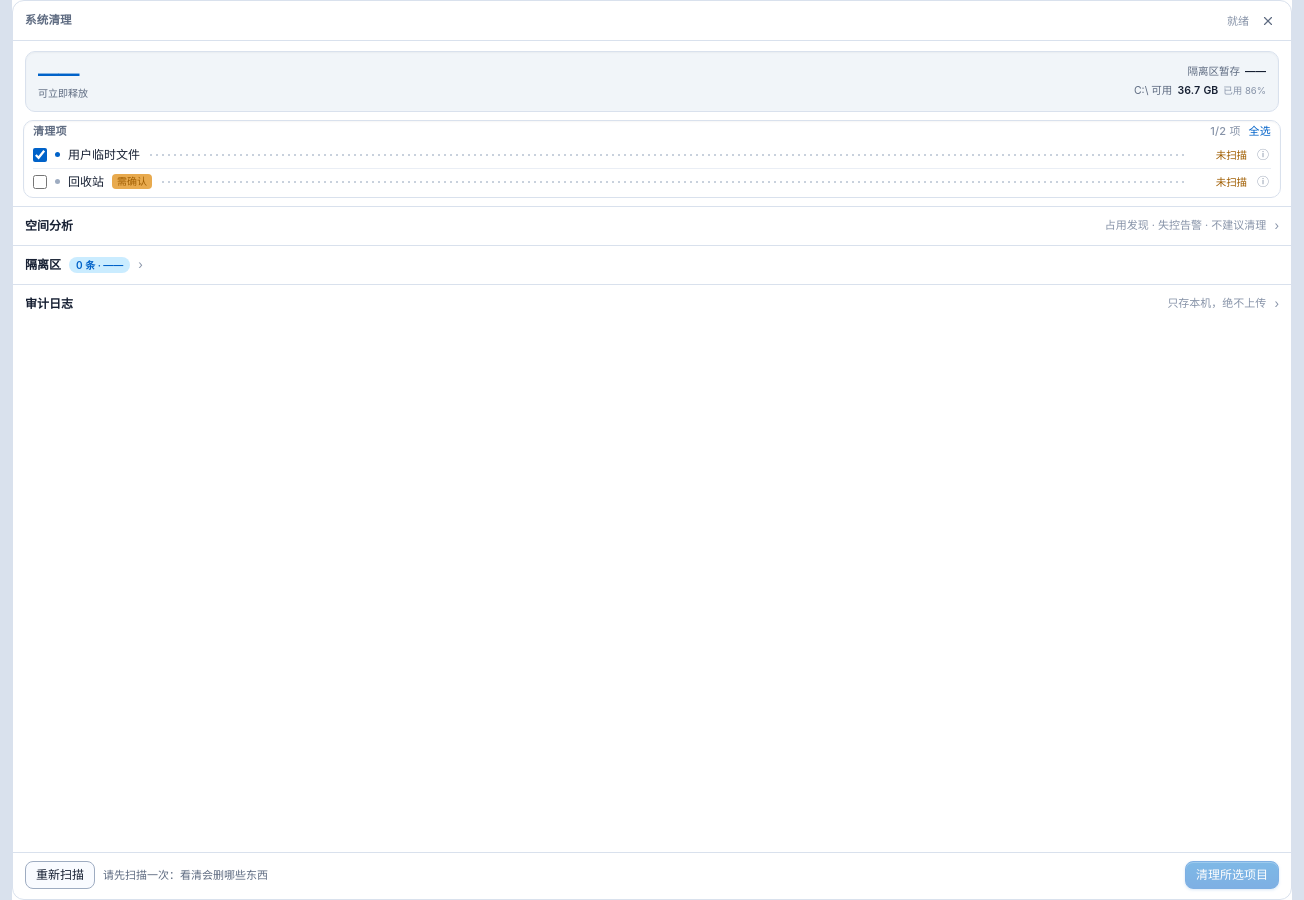
SystemCleanerTool › 审计日志：展开时才去拉，且能按规则/路径筛选
This screenshot has width=1304, height=900.
Click the button "审计日志 只存本机，绝不上传 ›".
click(49, 303)  # box [13,284,1291,323]
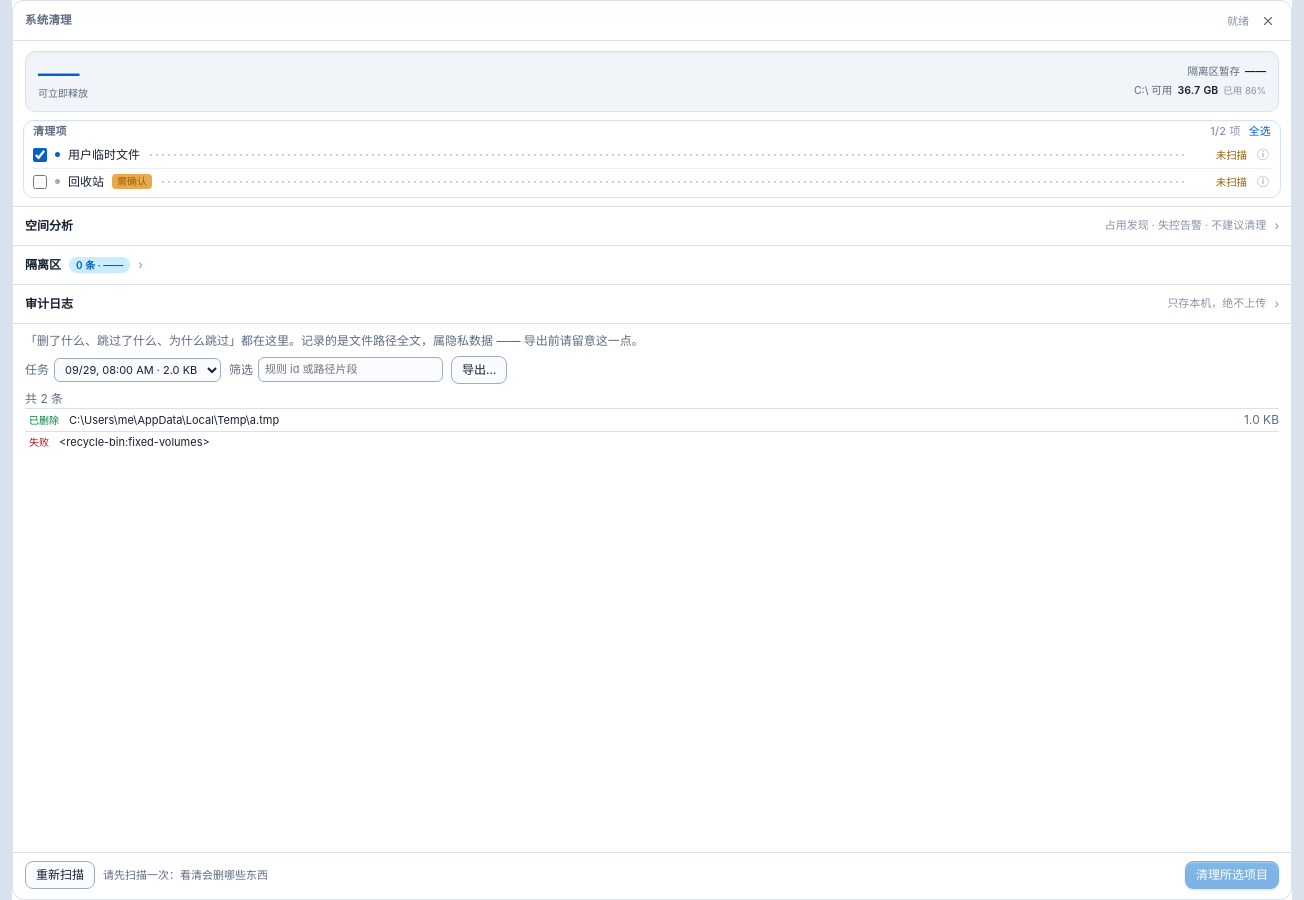
Check: the text "已删除" is shown, box [29,414,59,426]
Check: the text "失败" is shown, box [29,436,49,448]
Check: the text "共 2 条" is shown, box [25,391,63,406]
# 筛选：按路径片段
Type "recycle" into the field with placeholder "规则 id 或路径片段".
click(350, 370); type("recycle")  # box [258,357,443,382]
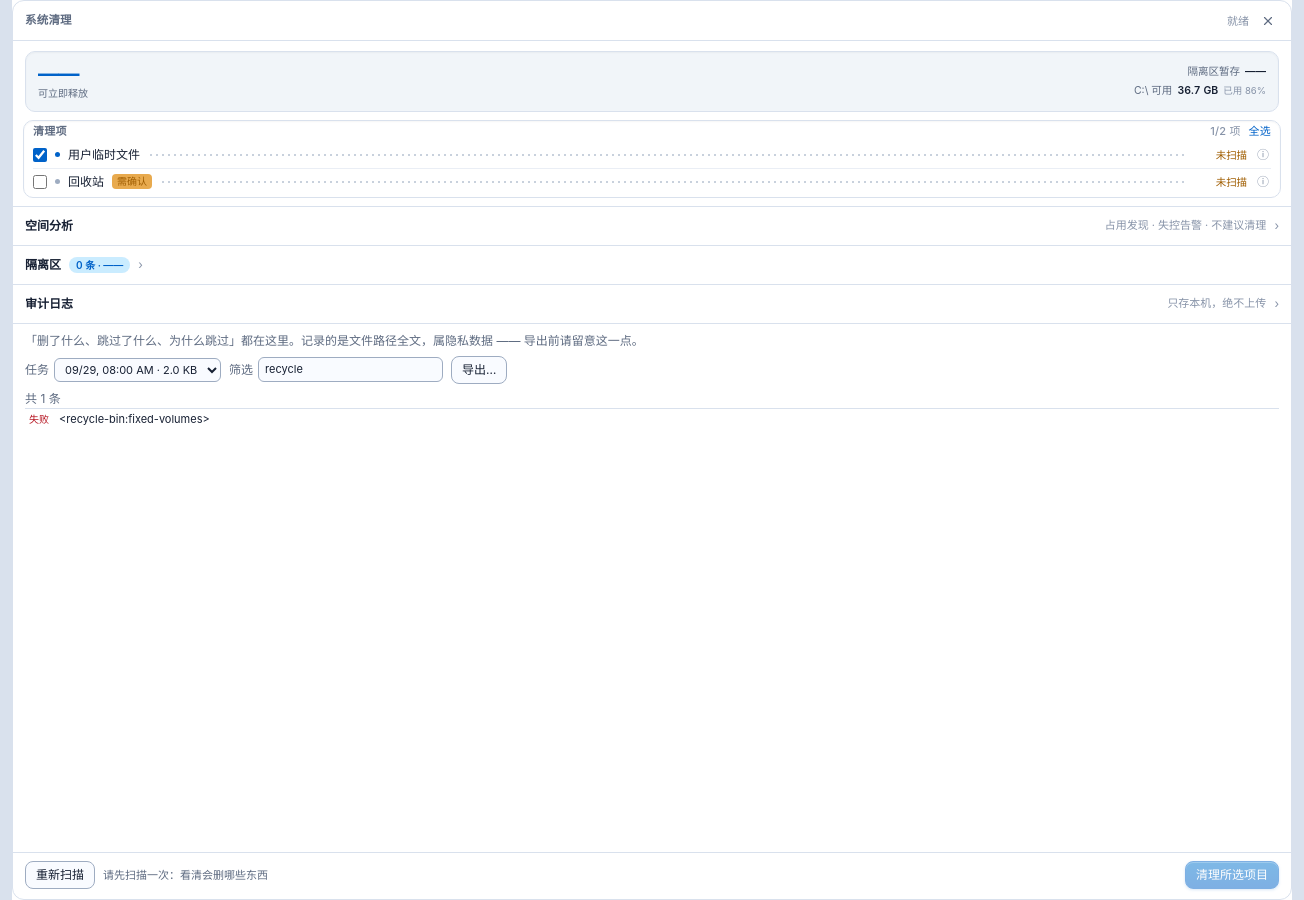
Check: the text "共 1 条" is shown, box [25,391,61,406]
